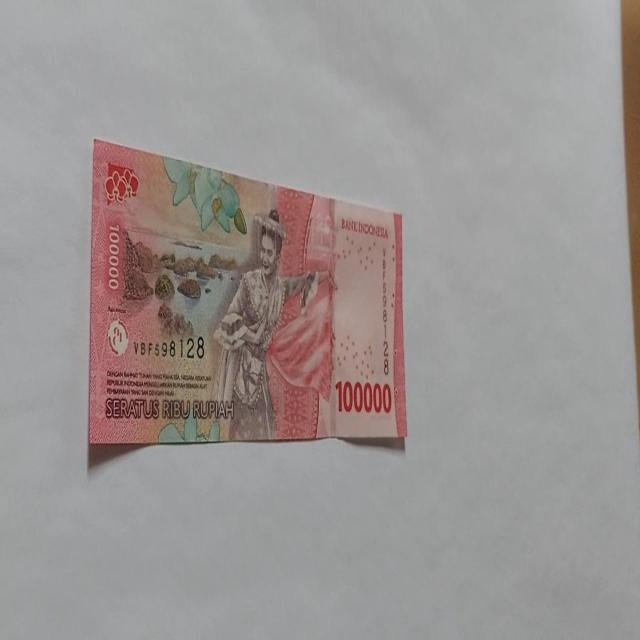Kertas: (88, 137, 408, 449), (334, 378, 392, 416)
